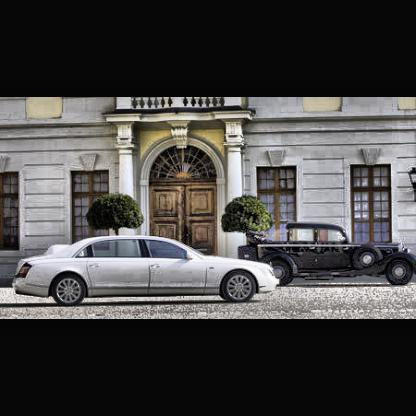Maybach Landaulet Convertible 2012: (13, 235, 281, 310)
